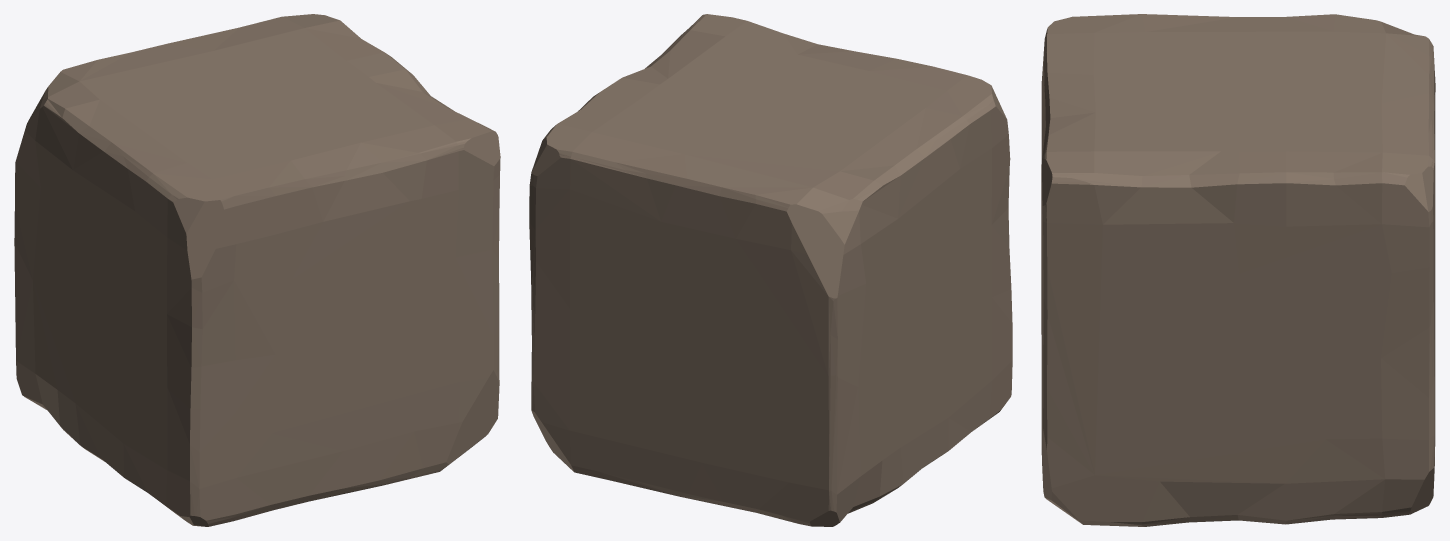
Rendered from RockCube.fbx.
3 views of the same model, side by side, from view 1: azimuth 30°, elevation 25°; view 2: azimuth 150°, elevation 25°; view 3: azimuth 270°, elevation 25° (orthographic). The views are drawn at different scales.
Visible parts, largest first — view 1: Cube.002; view 2: Cube.002; view 3: Cube.002.
Boxes of the visible parts, <box> form: Cube.002: <box>14,14,500,526</box>; Cube.002: <box>529,14,1012,526</box>; Cube.002: <box>1041,14,1435,526</box>.
Size of the model in its own units: 400 by 400 by 400.
